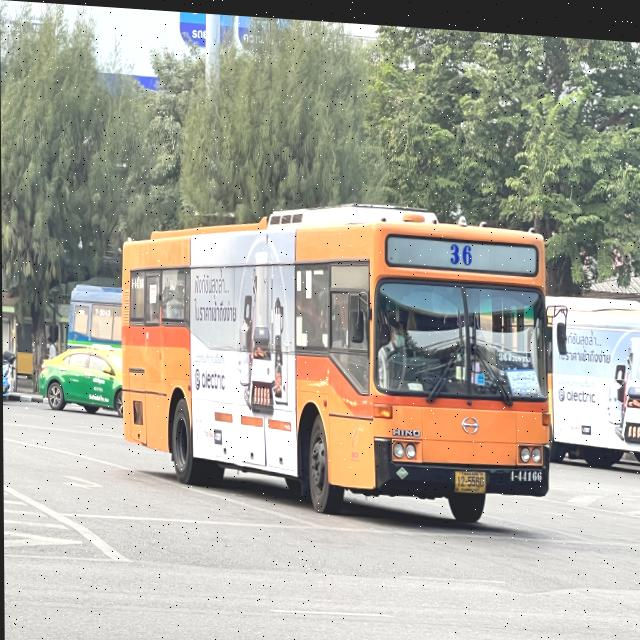BMTA-bus: (118, 188, 554, 524)
Bus-Line-Number: (446, 229, 476, 263)
Destination-Sign-Normal: (496, 340, 535, 377)
